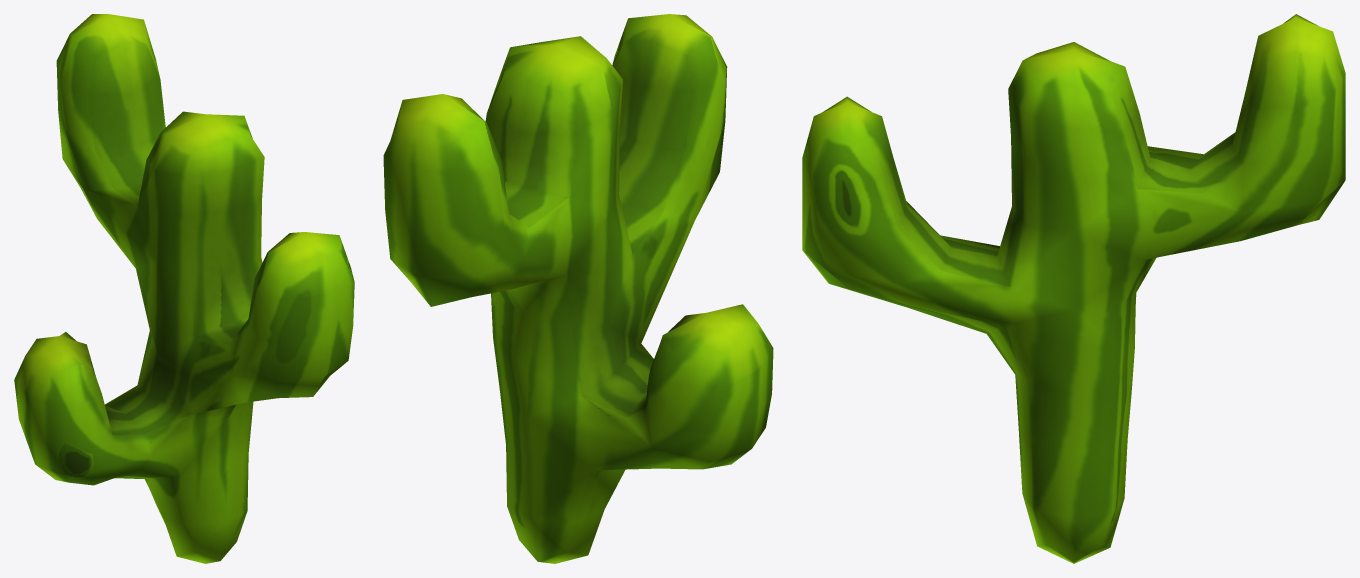
File: cactuse (1).glb
3 views of the same model, side by side, from view 1: azimuth 30°, elevation 25°; view 2: azimuth 150°, elevation 25°; view 3: azimuth 270°, elevation 25° (orthographic). The views are drawn at different scales.
Parts seen in each view (by area): view 1: Object_2; view 2: Object_2; view 3: Object_2.
Part boxes in pixels (<box>): Object_2: <box>14,14,354,563</box>; Object_2: <box>383,14,773,563</box>; Object_2: <box>802,14,1345,563</box>.
Size of the model in its own units: 1.55 by 3.12 by 2.81.
1 material, 1 textured.
